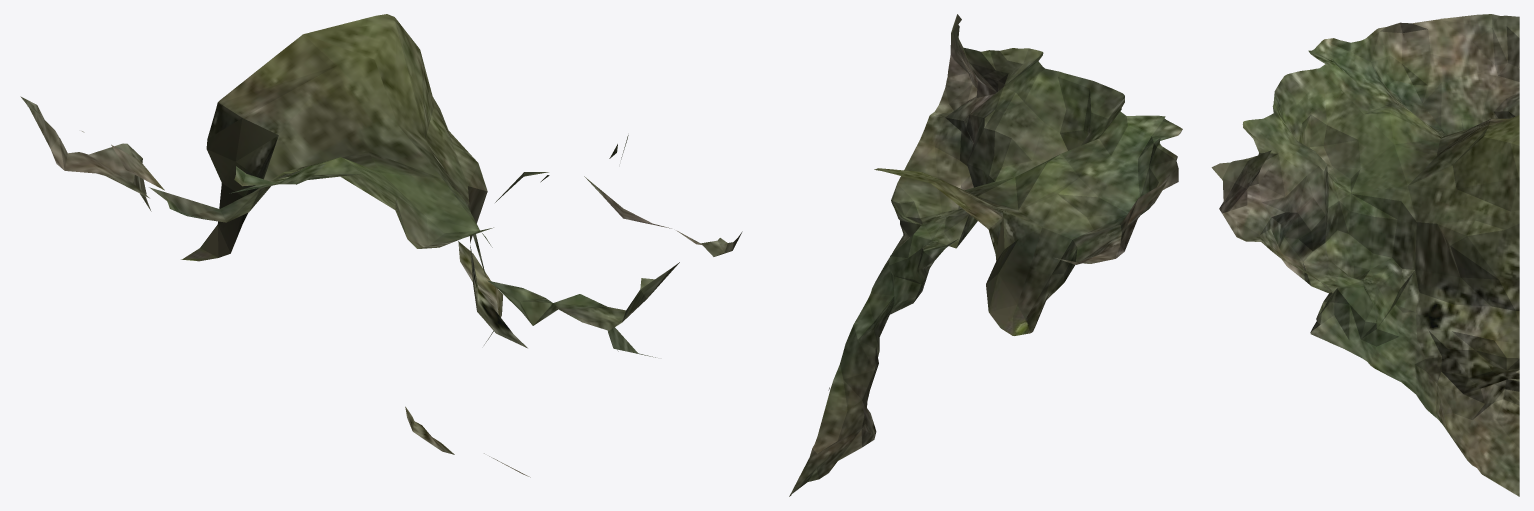
3 views of the same model, side by side, from view 1: azimuth 30°, elevation 25°; view 2: azimuth 150°, elevation 25°; view 3: azimuth 270°, elevation 25° (orthographic). The views are drawn at different scales.
Bounding box in the file's own units: 2.16 × 2.16 × 1.83.
2 materials, 2 textured.
